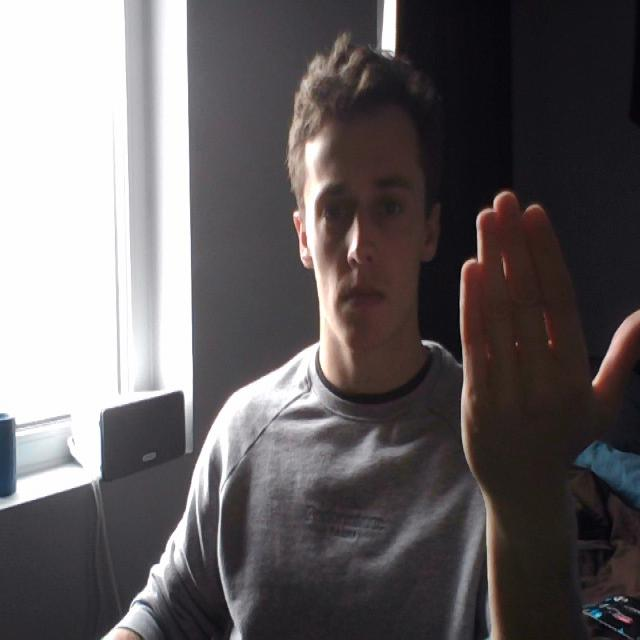forward: (442, 174, 639, 509)
